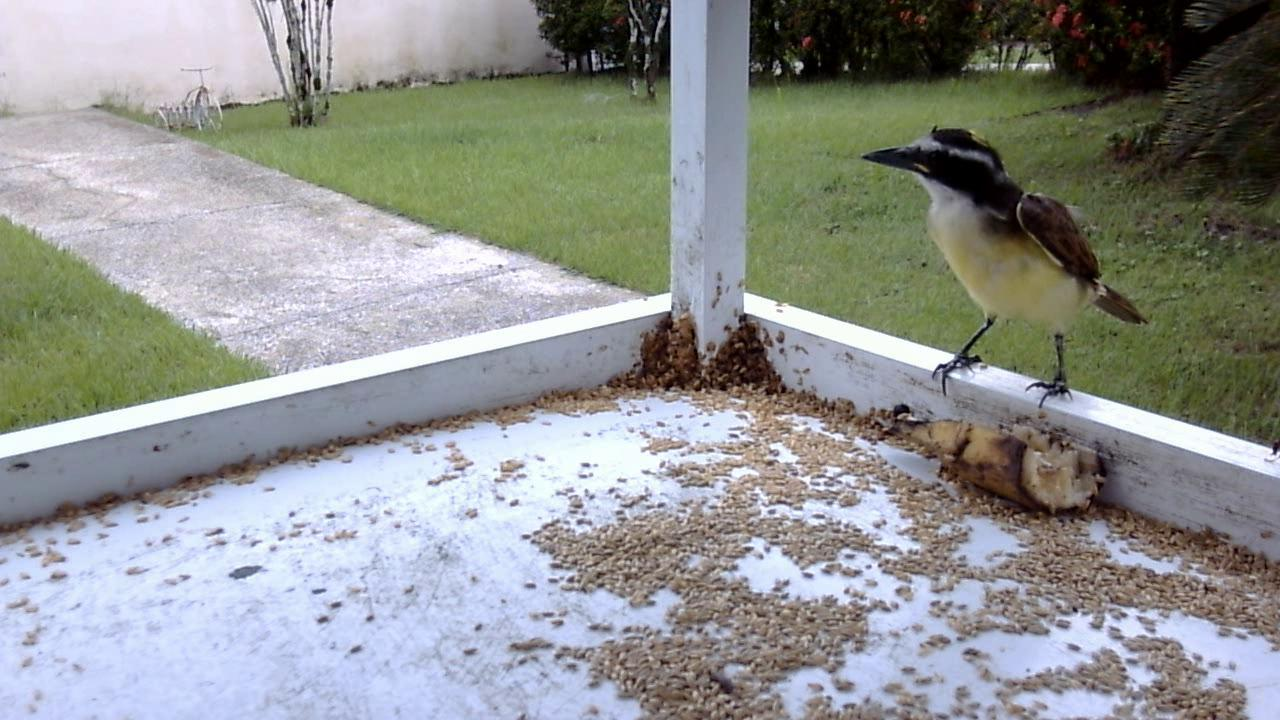bem_te_vi: (848, 118, 1155, 425)
